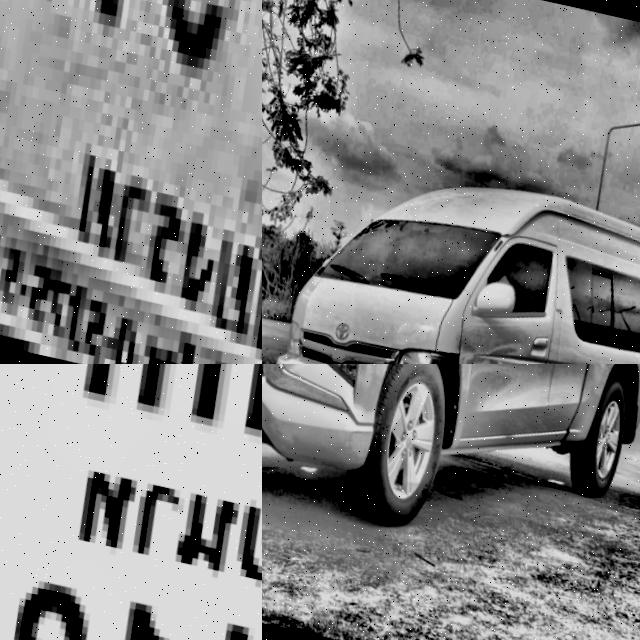license-plate: (0, 0, 262, 364), (0, 364, 262, 640)
